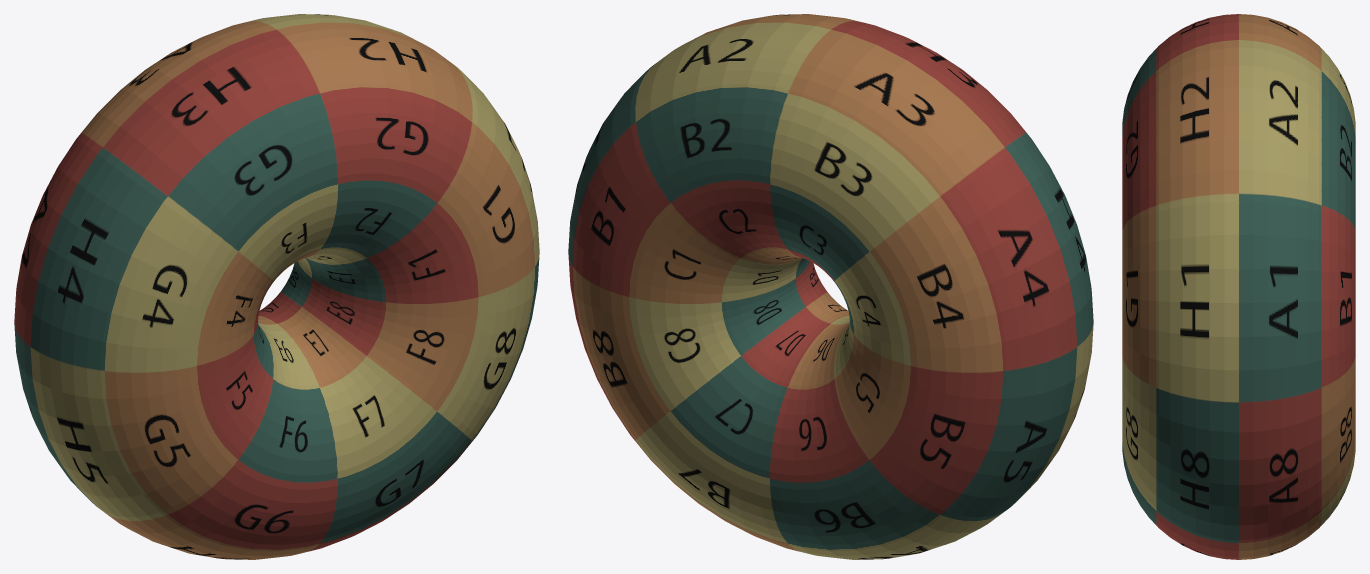
The model's file is texture_torus_R5_r30.glb.
3 views of the same model, side by side, from view 1: azimuth 30°, elevation 25°; view 2: azimuth 150°, elevation 25°; view 3: azimuth 270°, elevation 25° (orthographic). The views are drawn at different scales.
Parts seen in each view (by area): view 1: world; view 2: world; view 3: world.
Part boxes in pixels (x1,y1,x2,y2): world: (14, 14, 539, 559); world: (568, 14, 1093, 559); world: (1122, 14, 1355, 559).
Size of the model in its own units: 23.33 by 23.29 by 9.98.
Materials: 1 (1 with a texture image).
